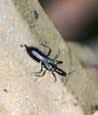Phlaeothripidae: (24, 43, 68, 81)
